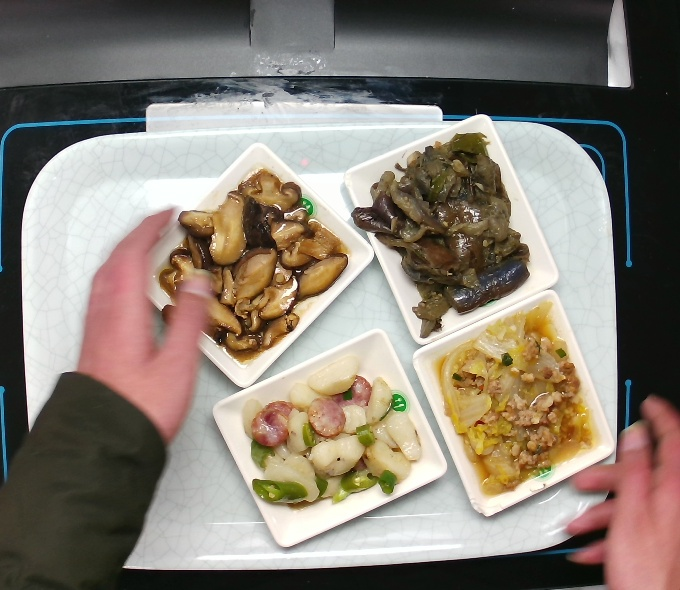wcq-MaTiGuo: (243, 356, 424, 508)
wcq-MoGu: (161, 169, 351, 359)
wcq-QieZi: (350, 130, 533, 340)
wcq-RouMoBaiCai: (431, 298, 598, 496)
